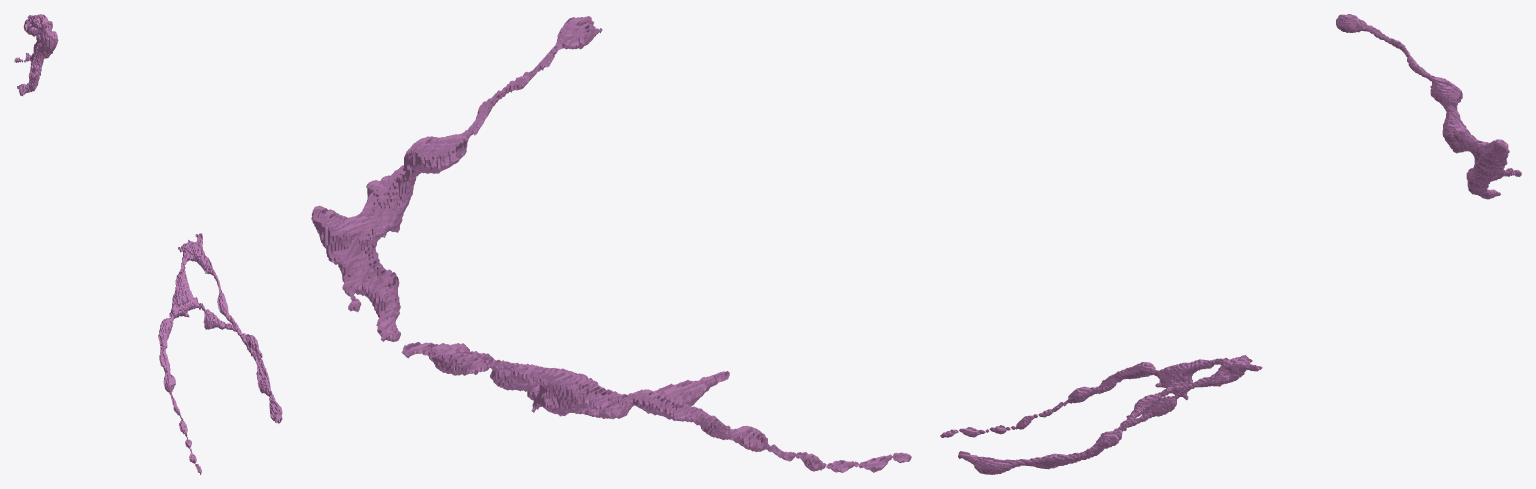
File: SVV_ADEL.gltf
3 renders of one model, left to right at view 1: azimuth 30°, elevation 25°; view 2: azimuth 150°, elevation 25°; view 3: azimuth 270°, elevation 25°, orthographic. The views are drawn at different scales.
Visible parts, largest first — view 1: ADEL; view 2: ADEL; view 3: ADEL.
Boxes of the visible parts, left/top/right/bottom form: ADEL: left=14, top=14, right=282, bottom=474; ADEL: left=311, top=16, right=911, bottom=472; ADEL: left=940, top=14, right=1521, bottom=474.
Bounding box in the file's own units: 66348 × 163531 × 203618.
